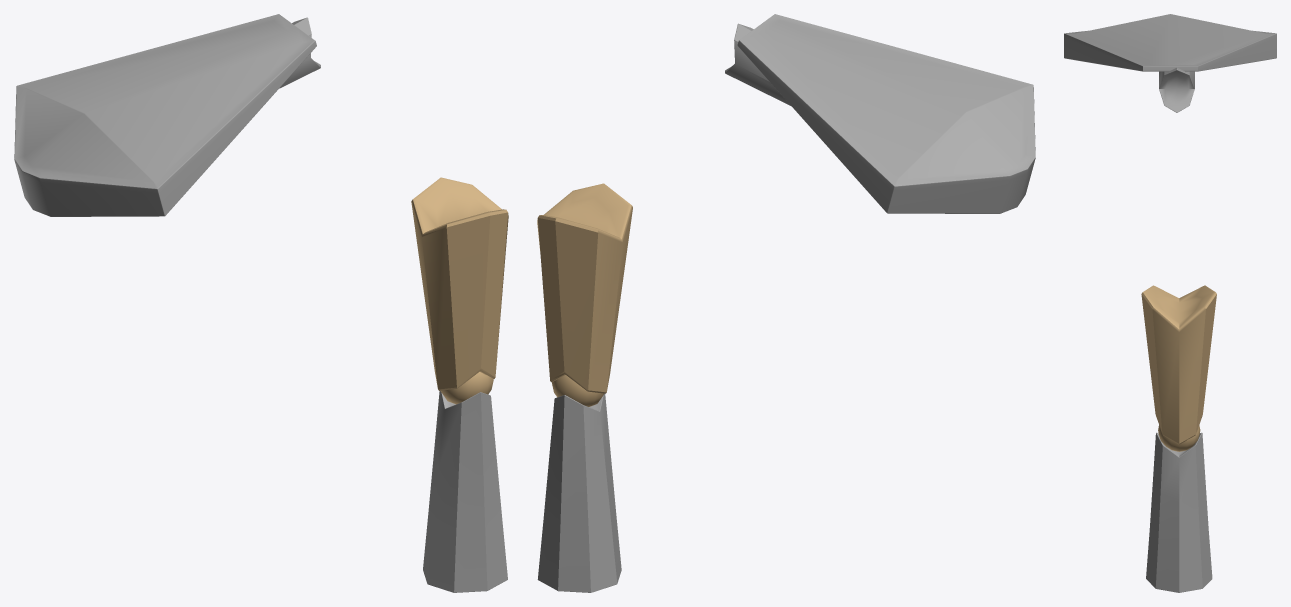
File: mode_shilder.fbx
3 views of the same model, side by side, from view 1: azimuth 30°, elevation 25°; view 2: azimuth 150°, elevation 25°; view 3: azimuth 270°, elevation 25° (orthographic). The views are drawn at different scales.
Parts seen in each view (by area): view 1: pPlane3, RightUpLeg1, LeftFoot, RightLeg2, RightForeArm; view 2: pPlane3, RightUpLeg1, LeftFoot, RightForeArm, RightLeg2; view 3: pPlane3, RightUpLeg1, LeftFoot, RightForeArm, RightLeg2.
Boxes of the visible parts, x1=… form: pPlane3: x1=14, y1=14, x2=316, y2=216; RightUpLeg1: x1=411, y1=177, x2=508, y2=390; LeftFoot: x1=423, y1=391, x2=507, y2=592; RightLeg2: x1=440, y1=371, x2=493, y2=404; RightForeArm: x1=279, y1=17, x2=320, y2=88; pPlane3: x1=737, y1=14, x2=1035, y2=213; RightUpLeg1: x1=537, y1=183, x2=632, y2=393; LeftFoot: x1=537, y1=393, x2=621, y2=592; RightForeArm: x1=725, y1=23, x2=790, y2=105; RightLeg2: x1=552, y1=375, x2=603, y2=406; pPlane3: x1=1064, y1=14, x2=1276, y2=71; RightUpLeg1: x1=1141, y1=285, x2=1216, y2=444; LeftFoot: x1=1146, y1=432, x2=1212, y2=592; RightForeArm: x1=1159, y1=67, x2=1194, y2=112; RightLeg2: x1=1158, y1=425, x2=1200, y2=451.
Size of the model in its own units: 22.13 by 25.69 by 10.99.
